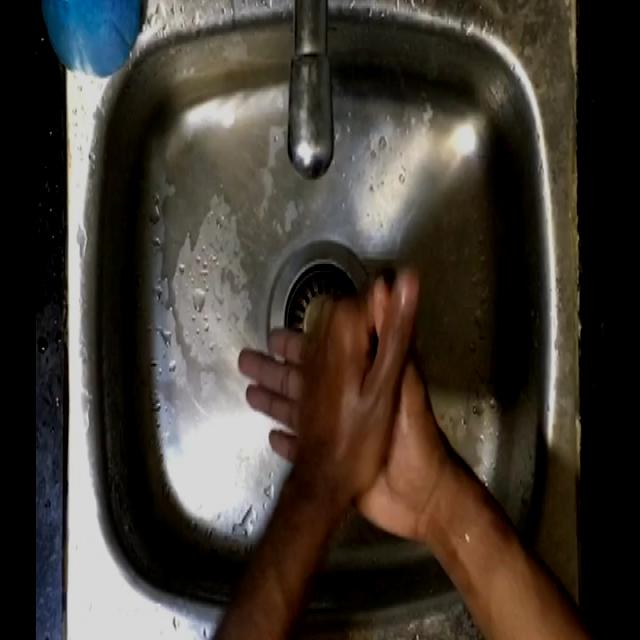step_5: (232, 265, 433, 540)
